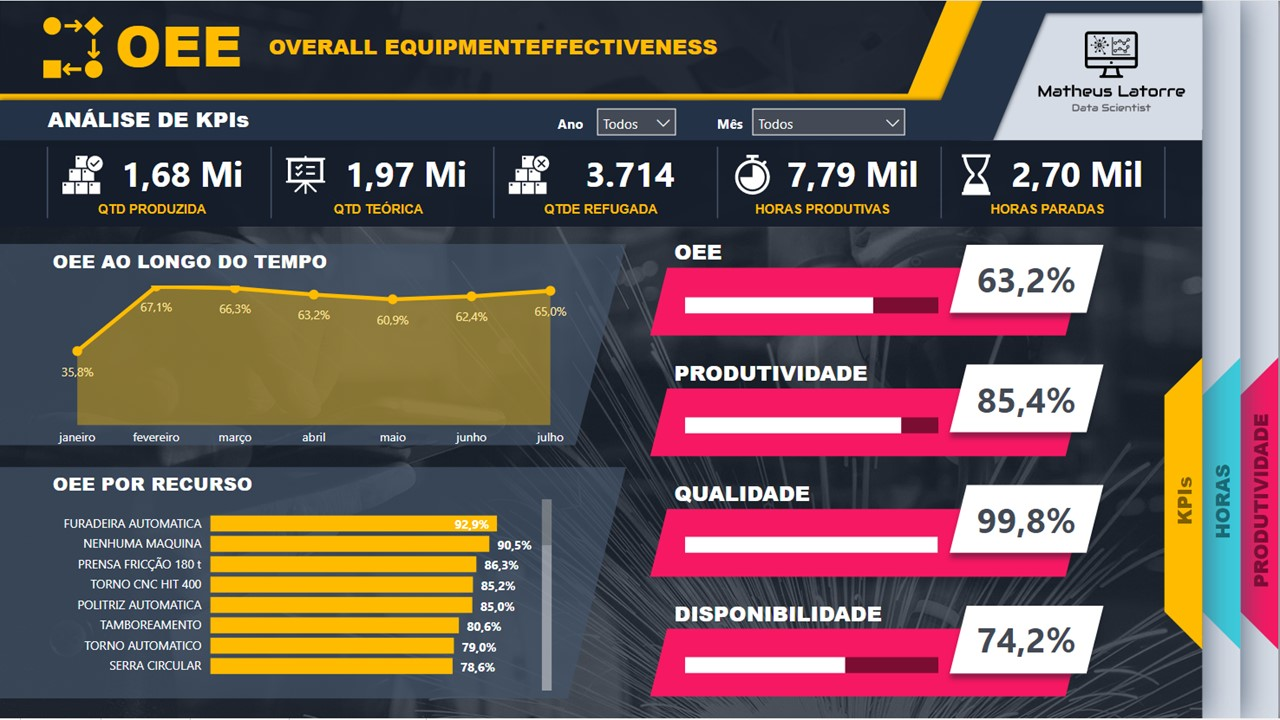

This screenshot's page, from the dashboard's own definition file:
{"tool":"powerbi","page":{"name":"KPIs","canvas":[1280,720],"ordinal":0},"visuals":[{"type":"slicer","fields":{"Values":["dCalendario.Data.Variation.Hierarquia de datas.Ano"]},"box":[587.7,97.7,99.1,46.8],"z":0,"group":"g5"},{"type":"card","fields":{"Values":["Medidas.Qtd Produzida"]},"box":[102.5,142.5,160.2,60.6],"z":0,"group":"g4"},{"type":"card","fields":{"Values":["Medidas.OEE"]},"box":[962,243.9,131,70.1],"z":0,"group":"g3"},{"type":"hundredPercentStackedBarChart","fields":{"Y":["Medidas.Disponibilidade","Medidas.Disponibilidade Aux"]},"box":[681.4,280.4,263.6,44.9],"z":0,"group":"g2"},{"type":"actionButton","box":[1242.9,396.7,37.4,219],"z":0},{"type":"clusteredBarChart","fields":{"Y":["Medidas.OEE"],"Category":["dRecurso.Recurso"]},"box":[41.2,486.8,516.5,209.9],"z":0,"group":"g1"},{"type":"slicer","fields":{"Values":["dCalendario.Data.Variation.Hierarquia de datas.Mês"]},"box":[743.2,97.7,173.4,46.8],"z":1000,"group":"g5"},{"type":"card","fields":{"Values":["Medidas.Qtd Teorica"]},"box":[326.9,142.5,160.2,60.6],"z":1000,"group":"g4"},{"type":"card","fields":{"Values":["Medidas.Produtividade"]},"box":[962,364.5,131,70],"z":1000,"group":"g3"},{"type":"actionButton","box":[1204.3,396.7,37.4,219],"z":1000},{"type":"hundredPercentStackedBarChart","fields":{"Y":["Medidas.Produtividade","Medidas.Produtividade Aux"]},"box":[681,400.1,263.7,46.2],"z":1000,"group":"g2"},{"type":"textbox","box":[47.7,464.9,347.8,48.9],"z":1000,"group":"g1"},{"type":"textbox","box":[686.8,108.7,61.9,28.9],"z":2000,"group":"g5"},{"type":"card","fields":{"Values":["Medidas.Horas Produtivas"]},"box":[774.2,142.5,160.2,60.6],"z":2000,"group":"g4"},{"type":"areaChart","fields":{"Y":["Medidas.OEE"],"Category":["dCalendario.Data.Variation.Hierarquia de datas.Mês","dCalendario.Data.Variation.Hierarquia de datas.Dia"]},"box":[40.4,272.7,546.9,183.3],"z":2000,"group":"g1"},{"type":"card","fields":{"Values":["Medidas.Qualidade"]},"box":[962,485.1,131,70],"z":2000,"group":"g3"},{"type":"hundredPercentStackedBarChart","fields":{"Y":["Medidas.Qualidade","Medidas.Qualidade Aux"]},"box":[681.4,520.1,263.6,46.3],"z":2000,"group":"g2"},{"type":"textbox","box":[527.1,108.7,61.9,28.9],"z":3000,"group":"g5"},{"type":"card","fields":{"Values":["Medidas.Horas Paradas"]},"box":[998.6,142.5,160.2,60.6],"z":3000,"group":"g4"},{"type":"textbox","box":[47,242.1,347.8,48.9],"z":3000,"group":"g1"},{"type":"card","fields":{"Values":["Medidas.Disponibilidade"]},"box":[962,605.6,131,70.1],"z":3000,"group":"g3"},{"type":"hundredPercentStackedBarChart","fields":{"Y":["Medidas.OEE","Medidas.OEE Aux"]},"box":[681.4,640.7,263.6,46.3],"z":3000,"group":"g2"},{"type":"card","fields":{"Values":["Medidas.Qtd Refugada"]},"box":[551.3,142.5,158.7,60.6],"z":4000,"group":"g4"},{"type":"group","id":"g1","title":"Gráficos OEE","box":[40.4,242.1,546.9,454.7],"z":5000},{"type":"group","id":"g2","title":"Barras Indicadores","box":[681,280.4,264,406.6],"z":6000},{"type":"group","id":"g3","title":"Cards Indicadores","box":[962,243.9,131,431.8],"z":7000},{"type":"group","id":"g4","title":"Cards Header","box":[102.5,142.5,1056.3,60.6],"z":16000},{"type":"group","id":"g5","title":"Filtros","box":[527.1,97.7,389.5,46.8],"z":17000},{"type":"image","box":[1027.5,14.8,177.2,122.5],"z":17001}]}

Visuals, with their boxes in screenshot pixels (x1, y1, x2, y2), scaled from the page's 1280x720 canvas onto the 1280x720 screenshot:
slicer - dCalendario.Data.Variation.Hierarquia de datas.Ano: bbox=(588, 98, 687, 144)
card - Medidas.Qtd Produzida: bbox=(102, 142, 263, 203)
card - Medidas.OEE: bbox=(962, 244, 1093, 314)
hundredPercentStackedBarChart - Medidas.Disponibilidade x Medidas.Disponibilidade Aux: bbox=(681, 280, 945, 325)
actionButton: bbox=(1243, 397, 1279, 616)
clusteredBarChart - Medidas.OEE x dRecurso.Recurso: bbox=(41, 487, 558, 697)
slicer - dCalendario.Data.Variation.Hierarquia de datas.Mês: bbox=(743, 98, 917, 144)
card - Medidas.Qtd Teorica: bbox=(327, 142, 487, 203)
card - Medidas.Produtividade: bbox=(962, 364, 1093, 434)
actionButton: bbox=(1204, 397, 1242, 616)
hundredPercentStackedBarChart - Medidas.Produtividade x Medidas.Produtividade Aux: bbox=(681, 400, 945, 446)
textbox: bbox=(48, 465, 396, 514)
textbox: bbox=(687, 109, 749, 138)
card - Medidas.Horas Produtivas: bbox=(774, 142, 934, 203)
areaChart - Medidas.OEE x dCalendario.Data.Variation.Hierarquia de datas.Mês: bbox=(40, 273, 587, 456)
card - Medidas.Qualidade: bbox=(962, 485, 1093, 555)
hundredPercentStackedBarChart - Medidas.Qualidade x Medidas.Qualidade Aux: bbox=(681, 520, 945, 566)
textbox: bbox=(527, 109, 589, 138)
card - Medidas.Horas Paradas: bbox=(999, 142, 1159, 203)
textbox: bbox=(47, 242, 395, 291)
card - Medidas.Disponibilidade: bbox=(962, 606, 1093, 676)
hundredPercentStackedBarChart - Medidas.OEE x Medidas.OEE Aux: bbox=(681, 641, 945, 687)
card - Medidas.Qtd Refugada: bbox=(551, 142, 710, 203)
"Gráficos OEE" group: bbox=(40, 242, 587, 697)
"Barras Indicadores" group: bbox=(681, 280, 945, 687)
"Cards Indicadores" group: bbox=(962, 244, 1093, 676)
"Cards Header" group: bbox=(102, 142, 1159, 203)
"Filtros" group: bbox=(527, 98, 917, 144)
image: bbox=(1028, 15, 1205, 137)
